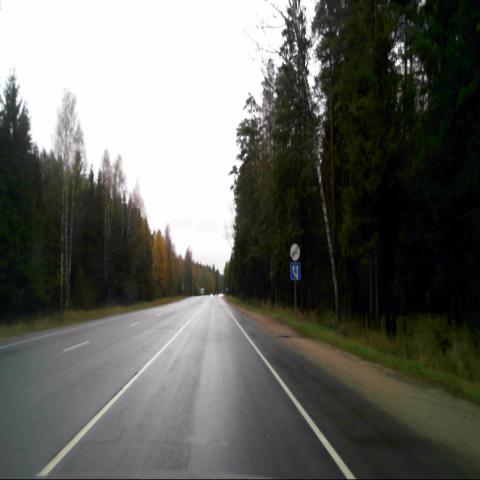3_21: (290, 242, 300, 262)
